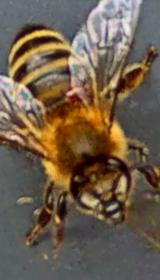varroa_mite: (60, 81, 93, 106)
